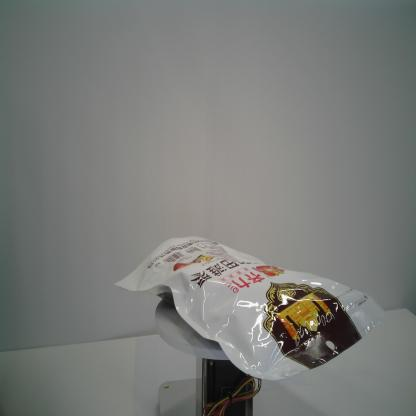Dried Food: (113, 235, 387, 382)
